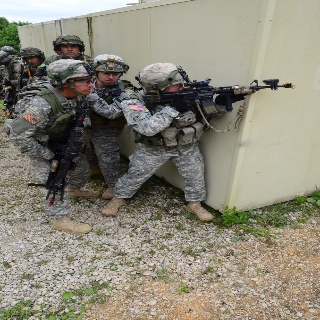rifle: (142, 66, 297, 115)
